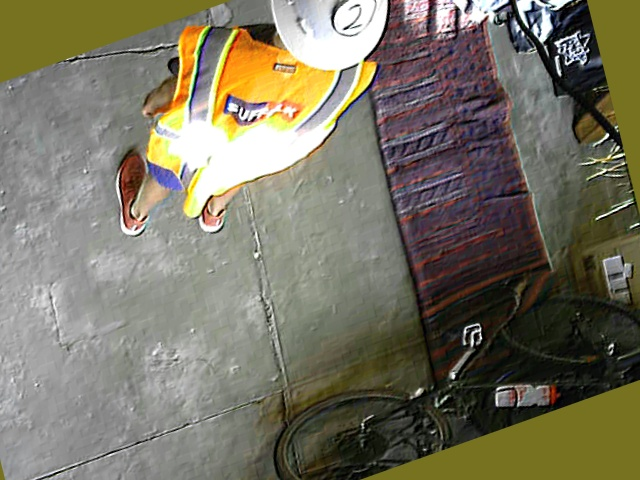two: (327, 0, 383, 42)
